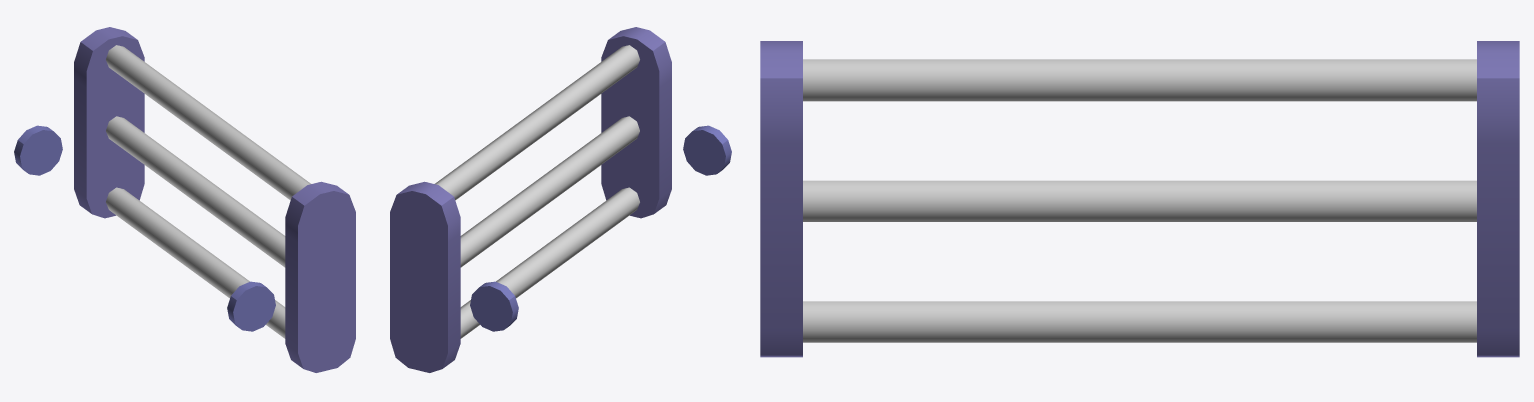
Rendered from laser_wall.fbx.
3 views of the same model, side by side, from view 1: azimuth 30°, elevation 25°; view 2: azimuth 150°, elevation 25°; view 3: azimuth 270°, elevation 25° (orthographic). The views are drawn at different scales.
Parts seen in each view (by area): view 1: laser_vfx_mesh, laser_base2, laser_base1; view 2: laser_vfx_mesh, laser_base1, laser_base2; view 3: laser_vfx_mesh, laser_base2, laser_base1.
Part boxes in pixels (<box>): laser_vfx_mesh: <box>106,45,310,338</box>; laser_base2: <box>227,181,355,372</box>; laser_base1: <box>14,27,144,218</box>; laser_vfx_mesh: <box>435,45,639,338</box>; laser_base1: <box>390,181,518,372</box>; laser_base2: <box>601,27,731,218</box>; laser_vfx_mesh: <box>803,59,1476,342</box>; laser_base2: <box>760,41,802,357</box>; laser_base1: <box>1477,41,1519,357</box>.
Bounding box in the file's own units: 0.978 × 1.58 × 3.
